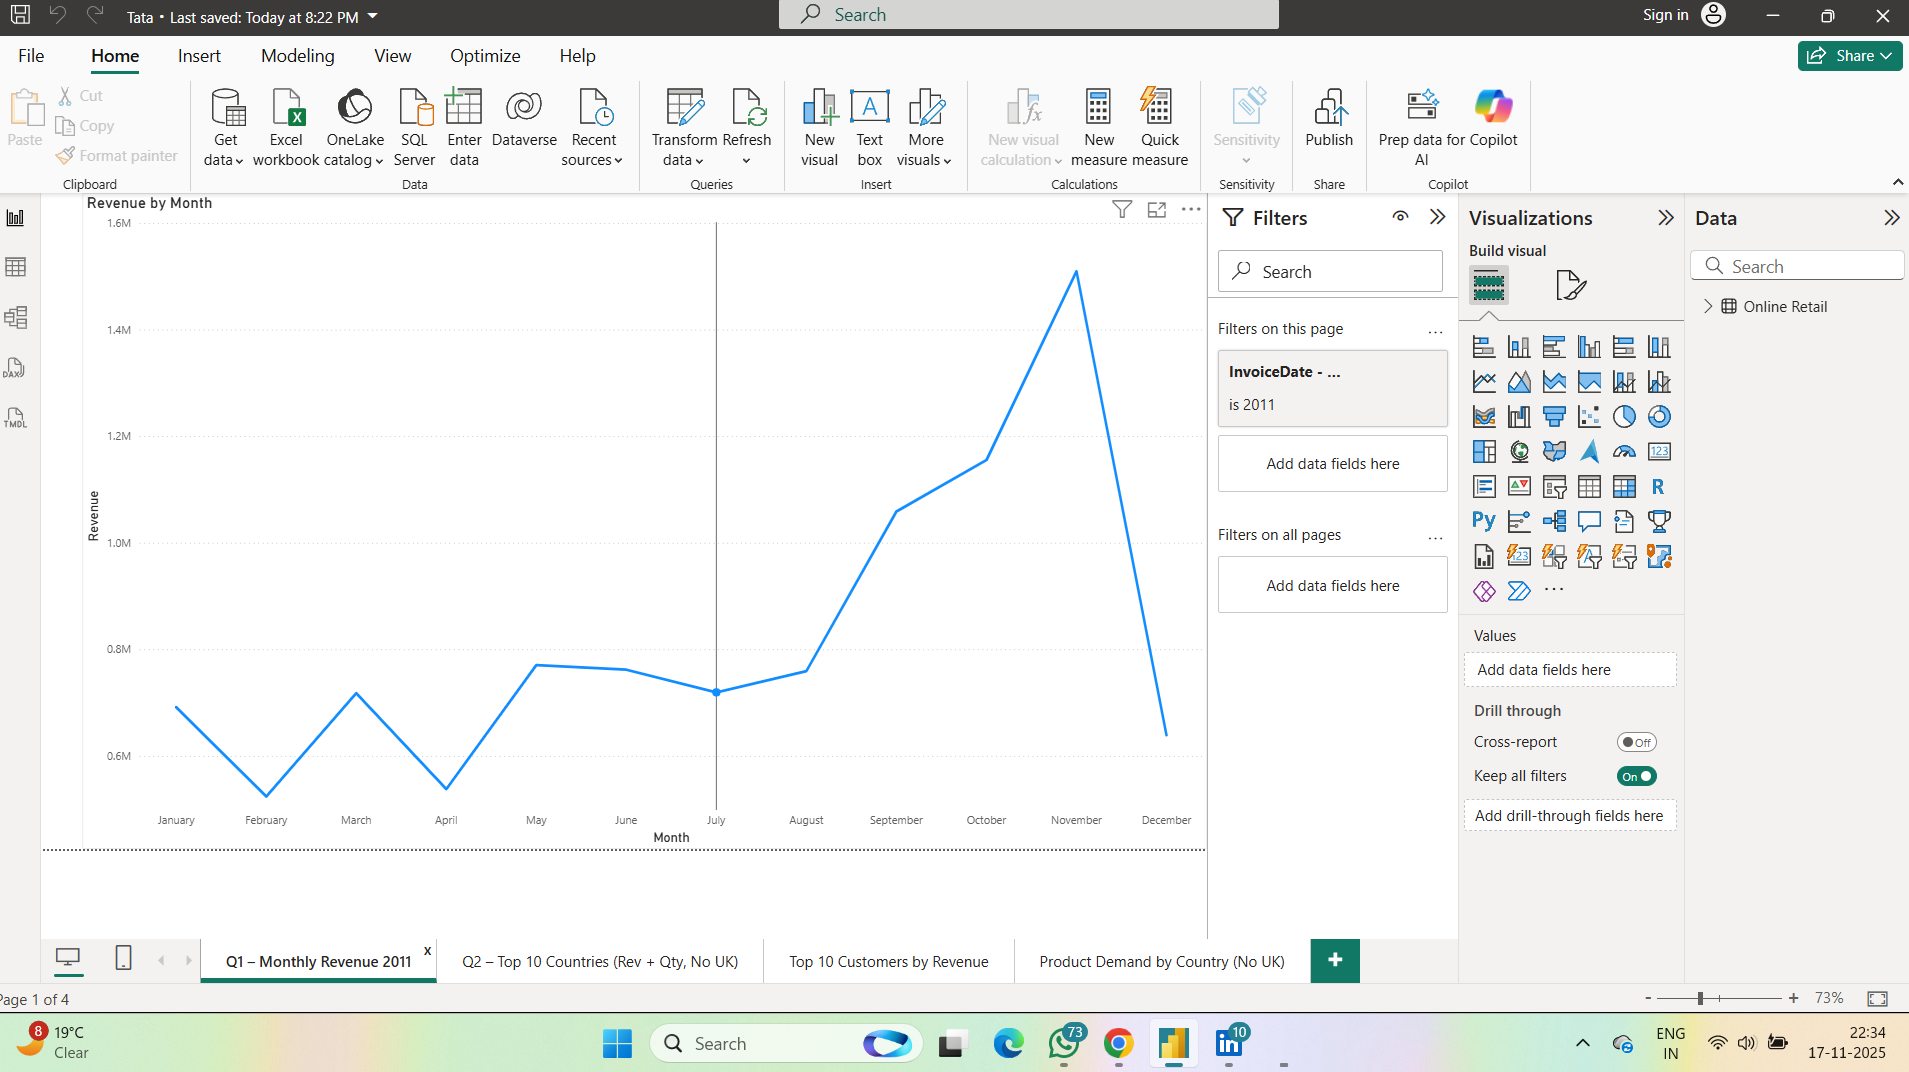

This screenshot's page, from the dashboard's own definition file:
{"tool":"powerbi","page":{"name":"Q1 – Monthly Revenue 2011","canvas":[1280,720],"ordinal":0},"visuals":[{"type":"lineChart","fields":{"Y":["Online Retail.Revenue"],"Category":["Online Retail.InvoiceDate.Variation.Date Hierarchy.Month"]},"box":[45.3,0,1235,720.4],"z":0}]}

Visuals, with their boxes on the page's 1280x720 design canvas (x1, y1, x2, y2). These are canvas units, not pixel positions in the 1909x1072 screenshot, which may show the page scaled, cropped or inside an application window:
lineChart - Online Retail.Revenue x Online Retail.InvoiceDate.Variation.Date Hierarchy.Month: bbox=[45, 0, 1280, 720]
